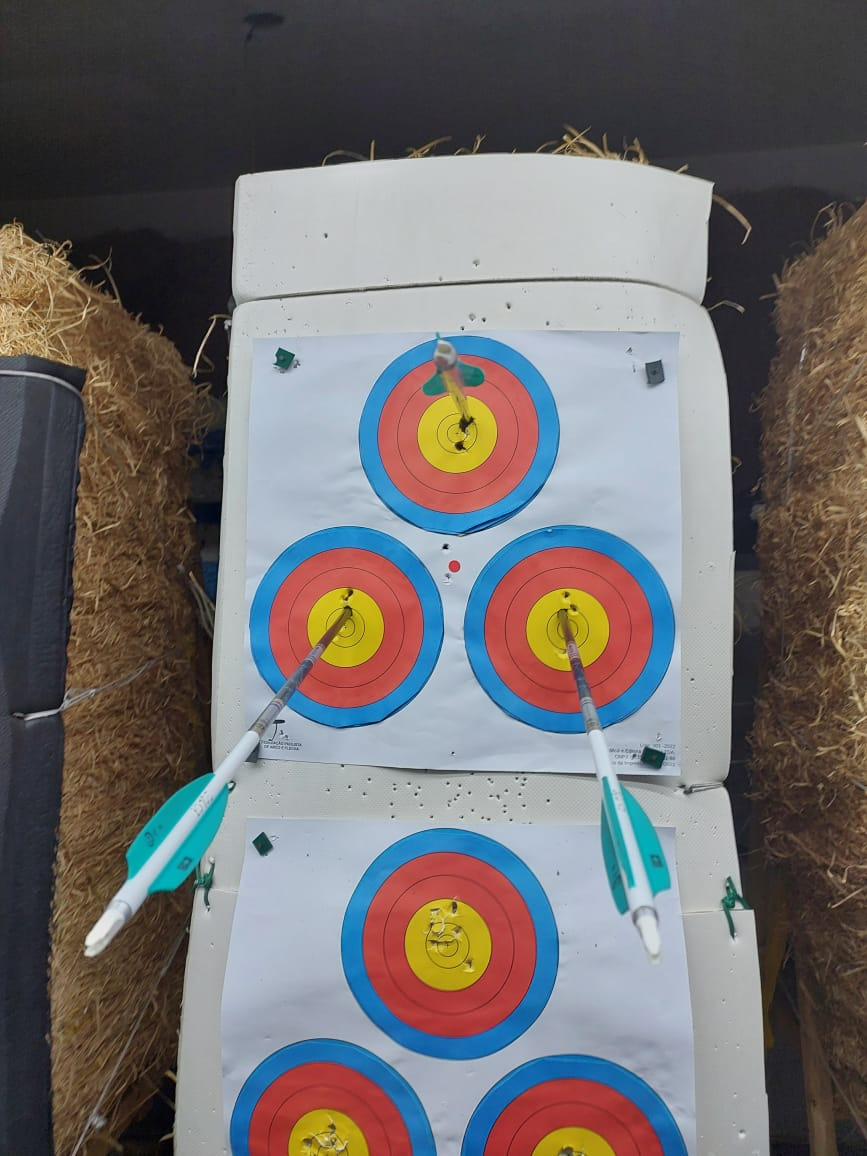9: (372, 339, 558, 524)
9 linha 10: (261, 528, 453, 740), (478, 532, 676, 731)
